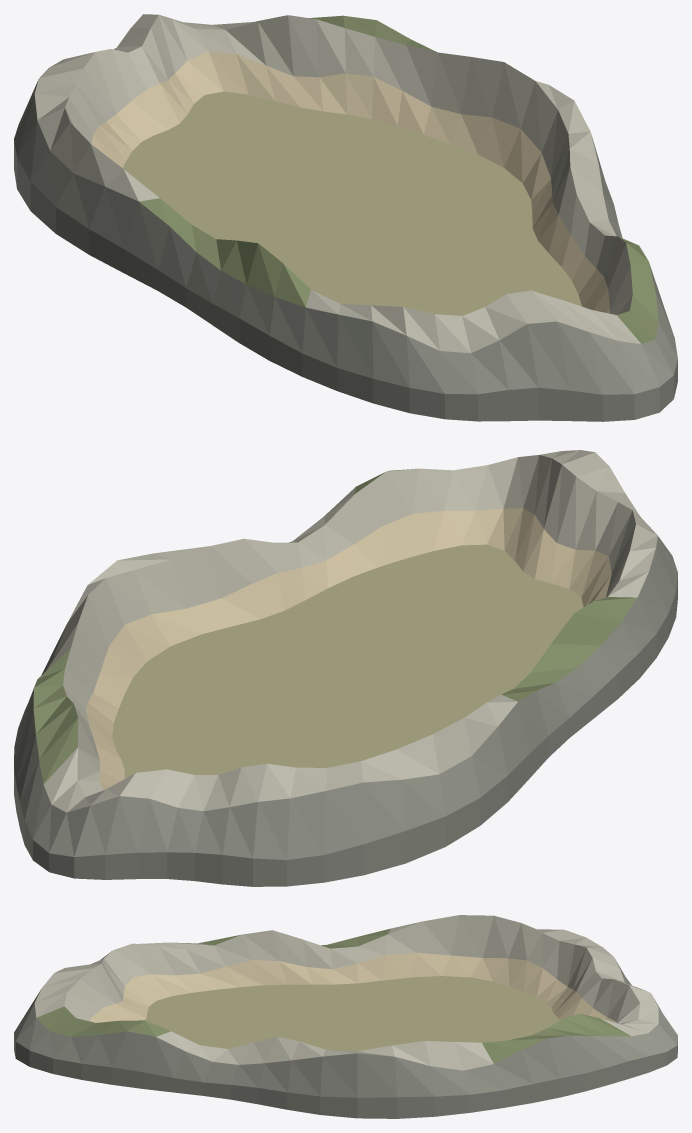
The model's file is karst-polje.glb.
3 renders of one model, top to bottom at view 1: azimuth 30°, elevation 25°; view 2: azimuth 150°, elevation 25°; view 3: azimuth 270°, elevation 25°, orthographic. The views are drawn at different scales.
Parts seen in each view (by area): view 1: enclosed-carbonate-slopes-flat-sediment-basin; view 2: enclosed-carbonate-slopes-flat-sediment-basin; view 3: enclosed-carbonate-slopes-flat-sediment-basin.
Part boxes in pixels (box(x1,y1,x2,y2)): enclosed-carbonate-slopes-flat-sediment-basin: box(14, 14, 677, 421); enclosed-carbonate-slopes-flat-sediment-basin: box(14, 450, 677, 886); enclosed-carbonate-slopes-flat-sediment-basin: box(14, 915, 677, 1118).
Bounding box in the file's own units: 1151 × 239 × 2152.
